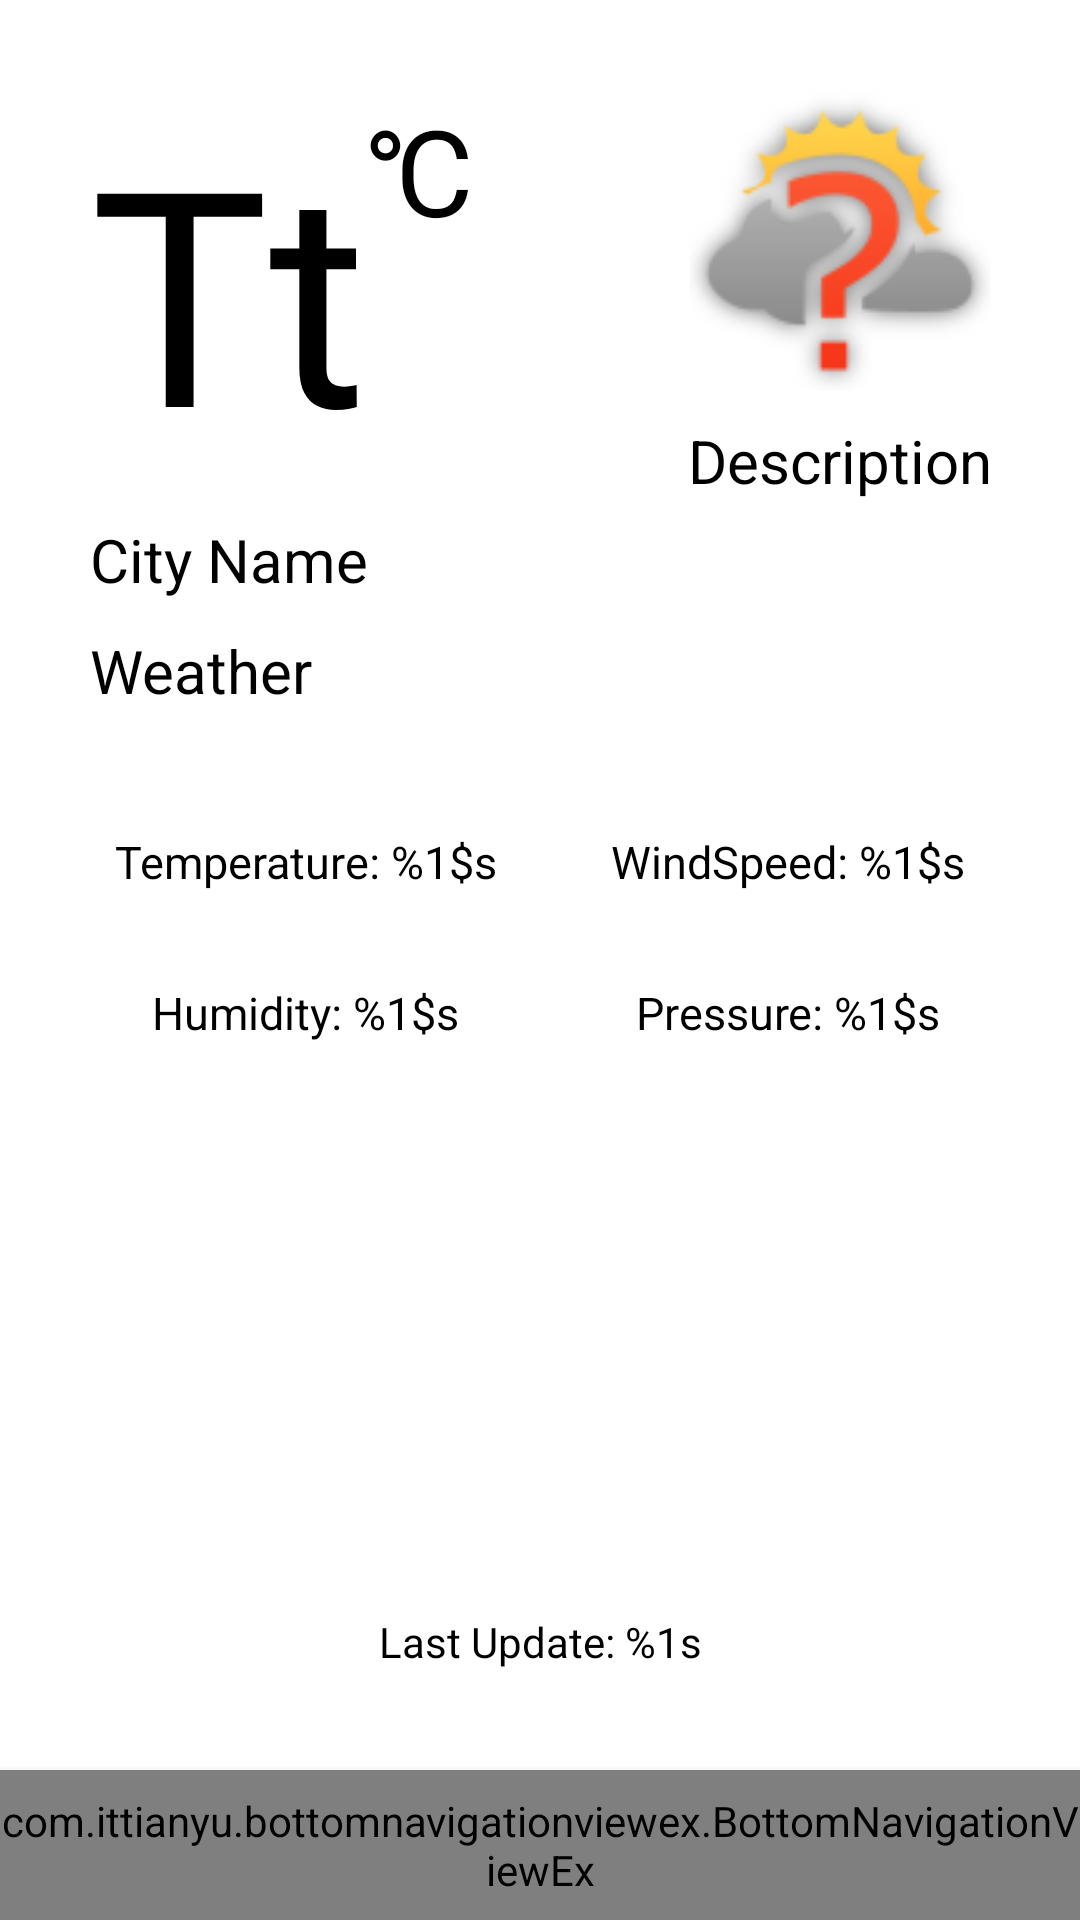

Named icons in this screenshot (1080 x 1920) and their bounding boxes, (x1, y1, x2, y2):
Weather icon: (699, 109, 981, 379)
